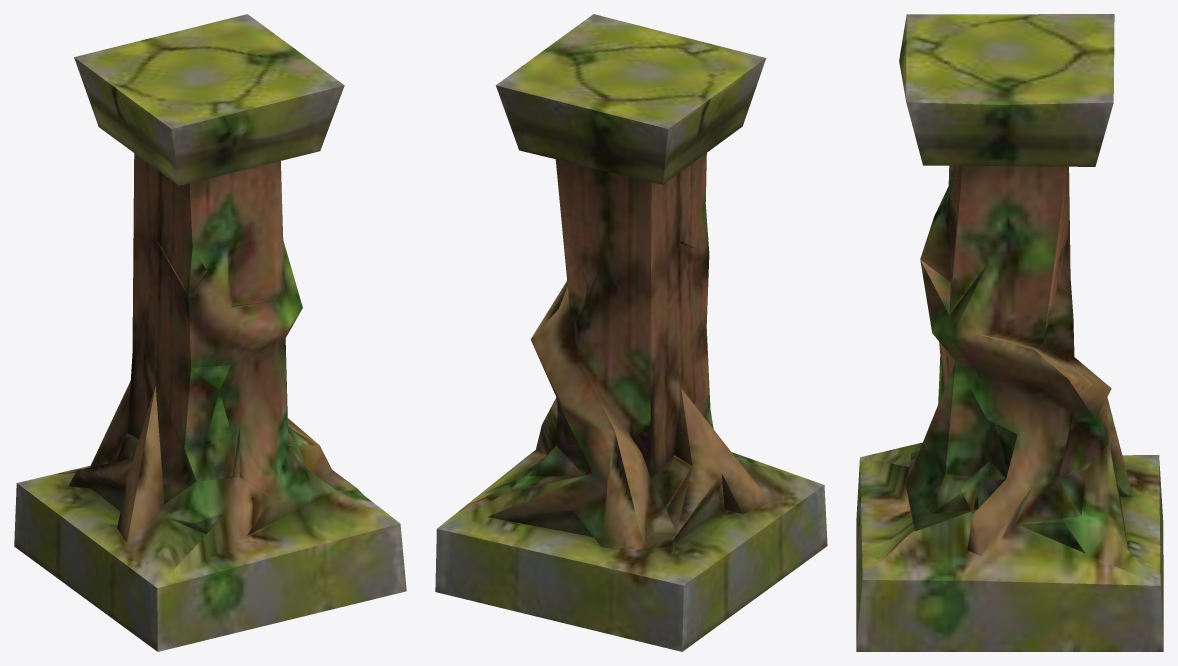
Rendered from b_racines_pilier_lo.glb.
The picture shows the model from 3 angles, left to right: view 1: azimuth 30°, elevation 25°; view 2: azimuth 150°, elevation 25°; view 3: azimuth 270°, elevation 25°; orthographic projection. The views are drawn at different scales.
Parts seen in each view (by area): view 1: geometry_0; view 2: geometry_0; view 3: geometry_0.
Part boxes in pixels (x1,y1,x2,y2): geometry_0: (14,14,406,651); geometry_0: (435,14,827,651); geometry_0: (856,14,1163,651).
Bounding box in the file's own units: 0.993 × 1.9 × 0.999.
1 material, 1 textured.
